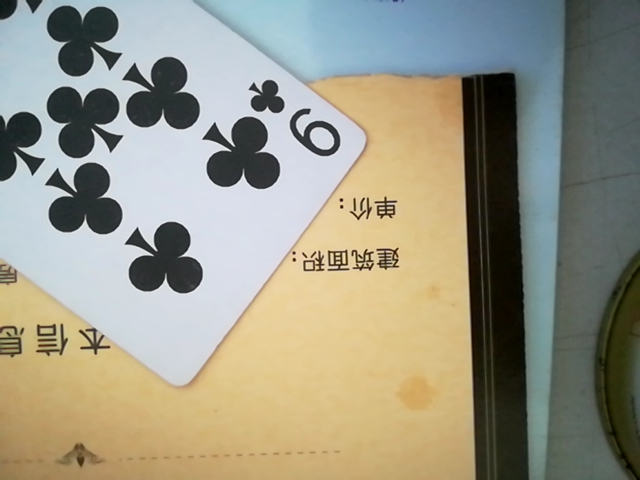mh 9: (2, 5, 376, 388)
